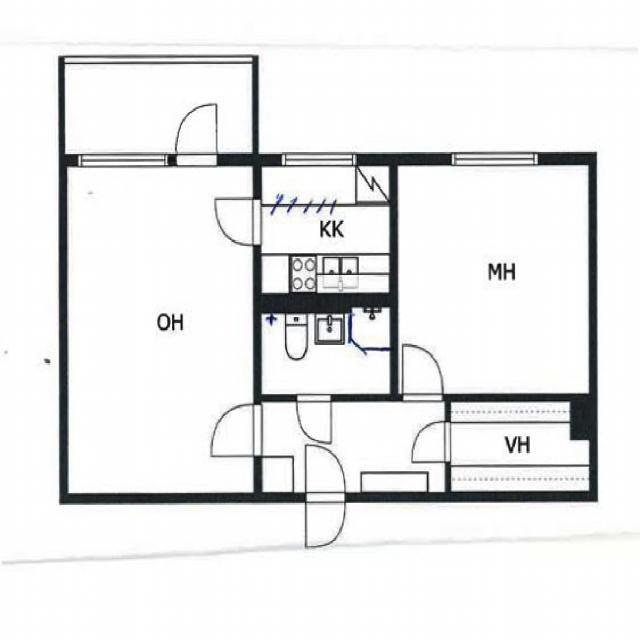door: (212, 404, 260, 455), (176, 104, 216, 165), (402, 344, 442, 401), (305, 493, 344, 550), (305, 445, 344, 502), (215, 198, 261, 244), (296, 394, 331, 444), (412, 421, 449, 461)
